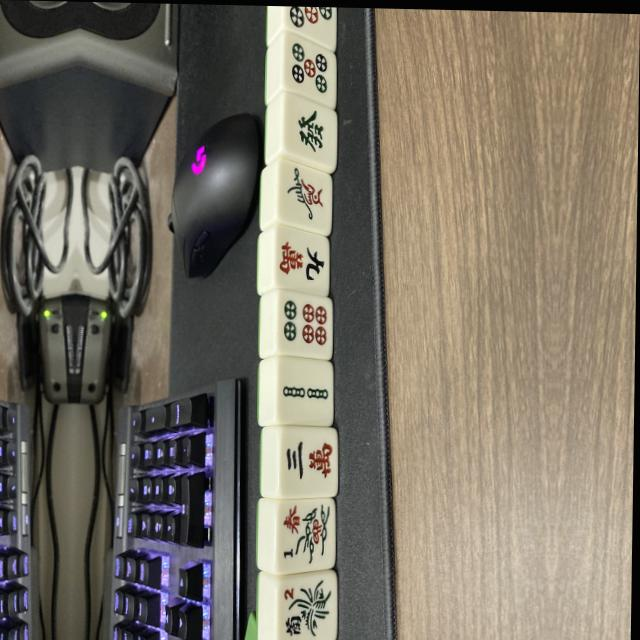f2: (277, 576, 336, 640)
fa: (282, 97, 335, 174)
ff1: (280, 497, 337, 572)
m3: (281, 428, 336, 496)
m9: (274, 230, 328, 296)
s1: (278, 160, 334, 232)
s2: (277, 359, 334, 426)
t3: (286, 6, 338, 48)
t5: (284, 34, 336, 107)
t6: (278, 292, 334, 358)
